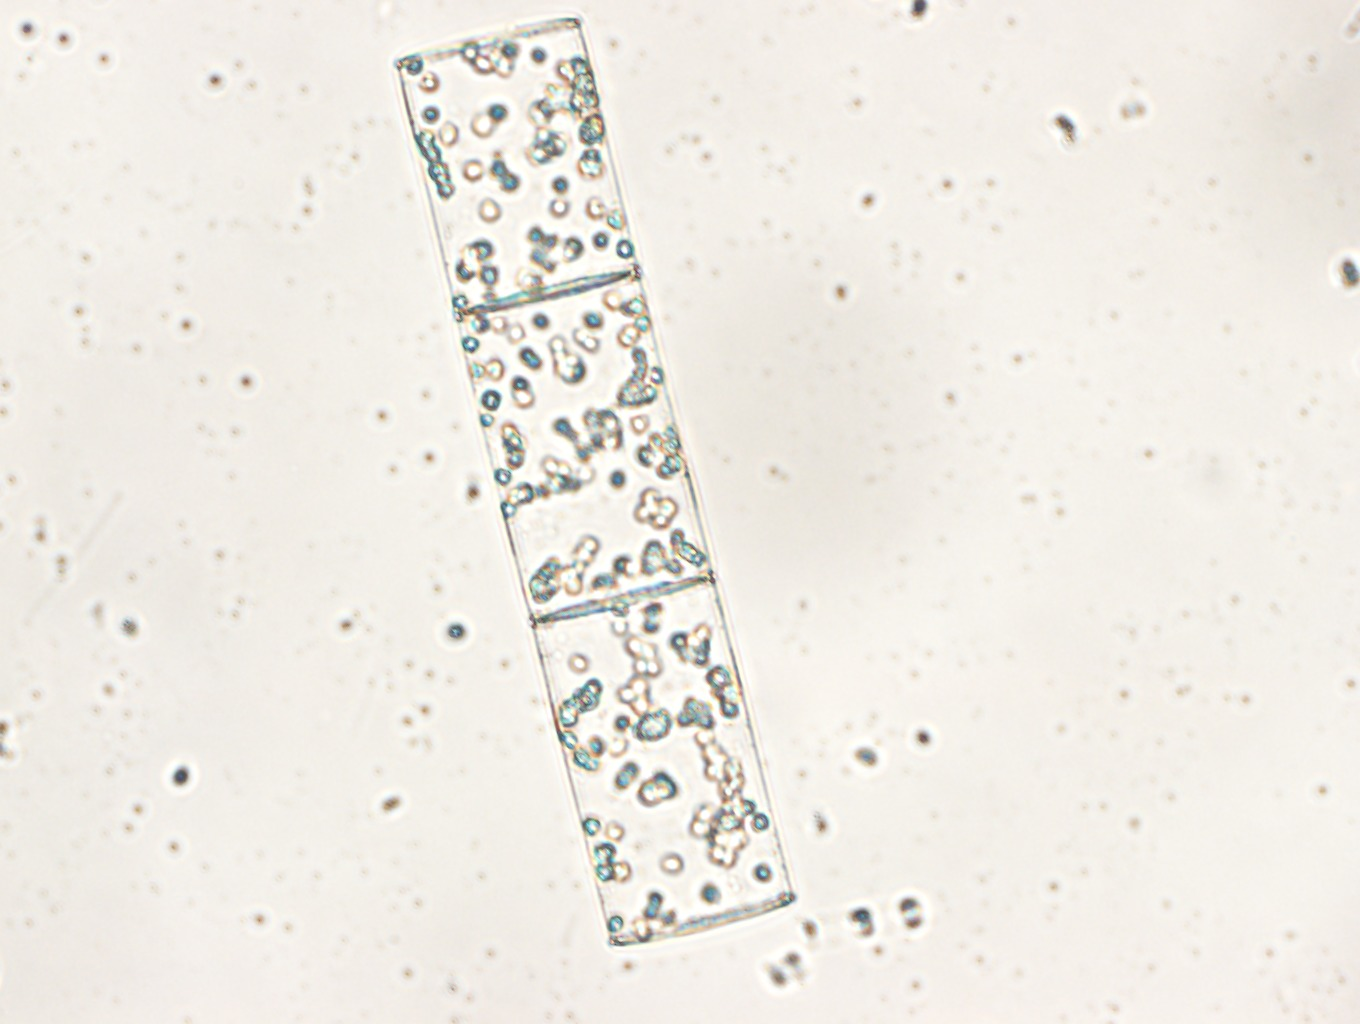guinardia flaccida: (393, 14, 796, 945)
